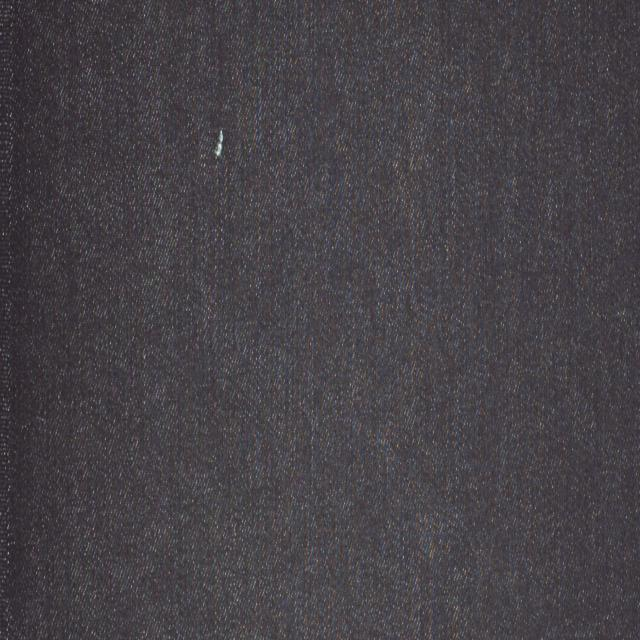Knot: (214, 129, 224, 158)
